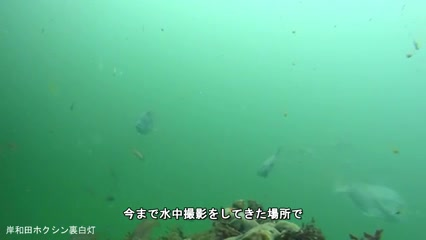smallfish: (323, 170, 407, 220), (126, 103, 163, 139)
